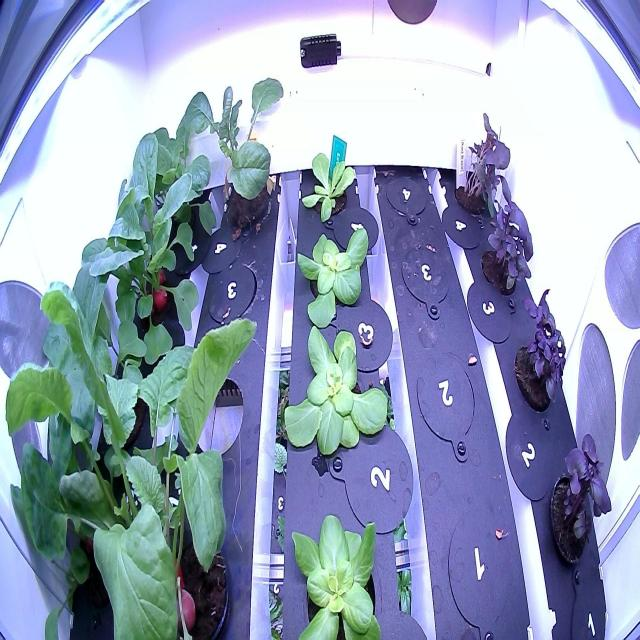empty_pod: (442, 502, 518, 638), (412, 347, 479, 457), (182, 364, 246, 461), (396, 236, 453, 314), (204, 255, 258, 330), (382, 171, 429, 226)
young: (277, 304, 398, 465), (282, 500, 393, 637), (290, 211, 383, 332), (296, 142, 362, 228)
